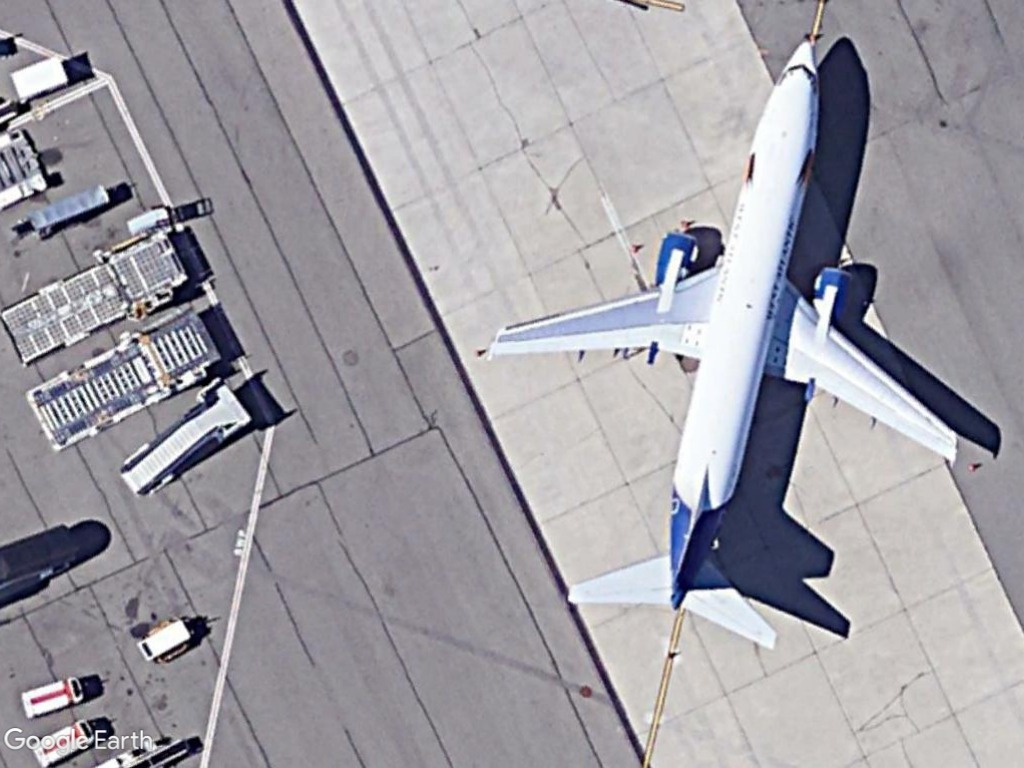airliner: (488, 31, 962, 655)
stairtruck: (117, 378, 251, 504)
